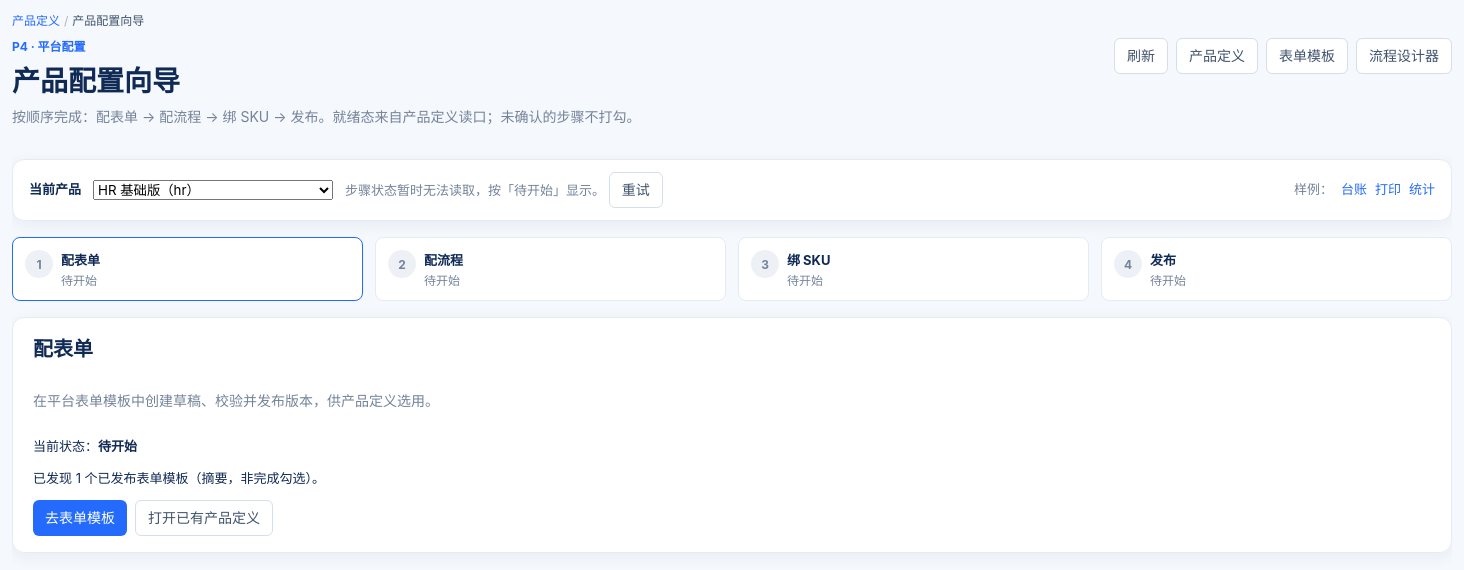
product config wizard real readiness (PC7) › keeps steps pending with a retry when readiness cannot be read
Expected: the element with test id "wizard-readiness-error" shows "步骤状态暂时无法读取", left=345, top=182, right=609, bottom=198
Click the button "重试".
click(636, 190)  # box left=609, top=172, right=663, bottom=208
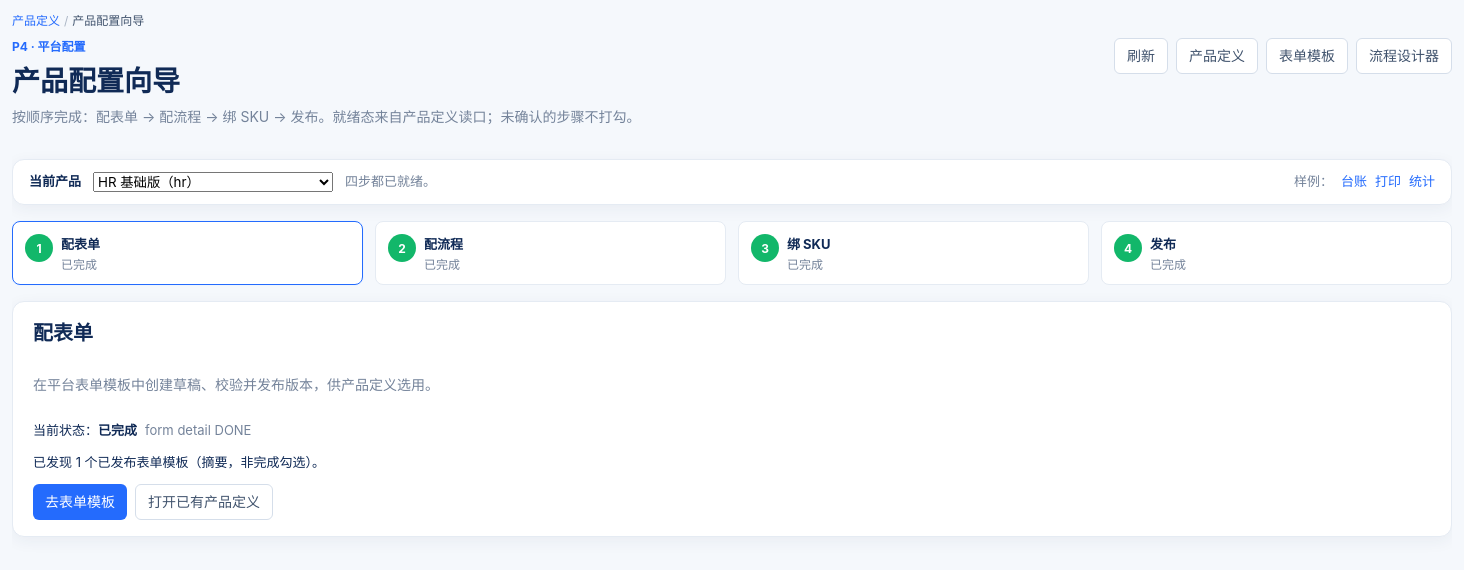
Result: the text with test id "wizard-complete" shows "四步都已就绪" at left=345, top=173, right=436, bottom=189
